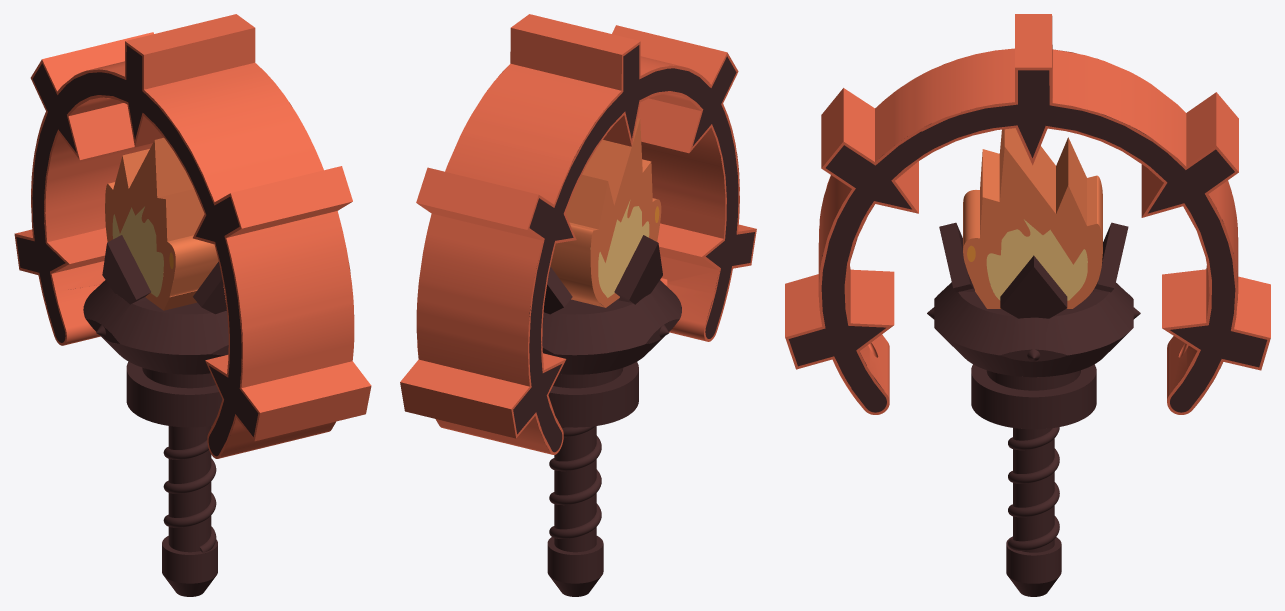
File: Torch.gltf
3 views of the same model, side by side, from view 1: azimuth 30°, elevation 25°; view 2: azimuth 150°, elevation 25°; view 3: azimuth 270°, elevation 25° (orthographic).
Visible parts, largest first — view 1: mesh85_meshnode_85; view 2: mesh85_meshnode_85; view 3: mesh85_meshnode_85.
Part boxes in pixels (<box>): mesh85_meshnode_85: <box>14,14,371,596</box>; mesh85_meshnode_85: <box>400,14,756,596</box>; mesh85_meshnode_85: <box>785,14,1270,596</box>.
Bounding box in the file's own units: 0.9502 × 2.7 × 2.16.
